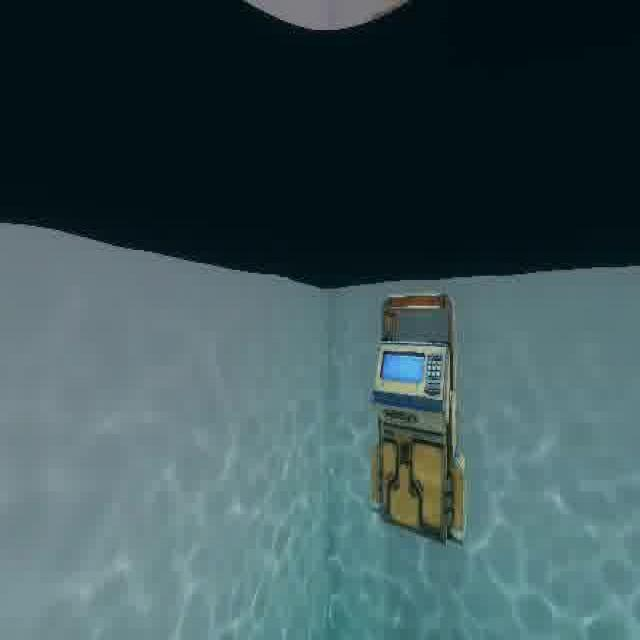Control Panel: (364, 288, 478, 556)
